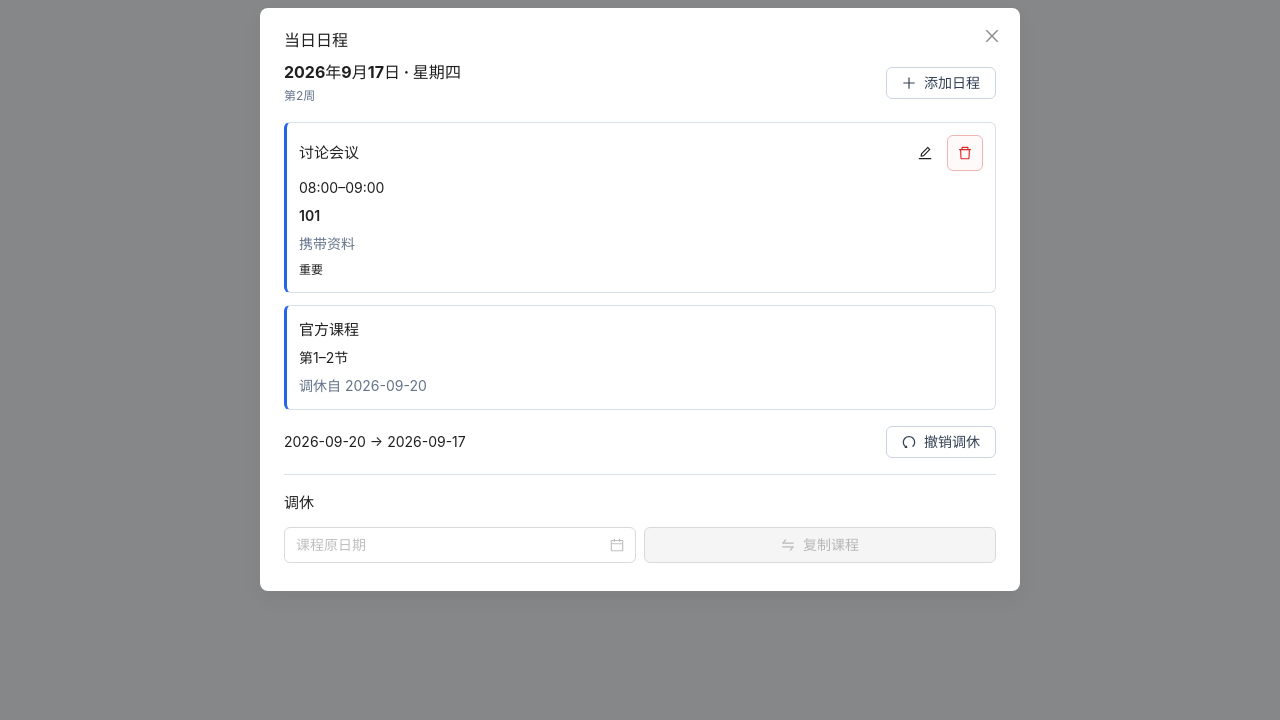
Test: saved timetable agenda management › confirmed deletion removes only the chosen manual event
Click the button named "删除讨论会议": x=965, y=153 [947,135,983,171]
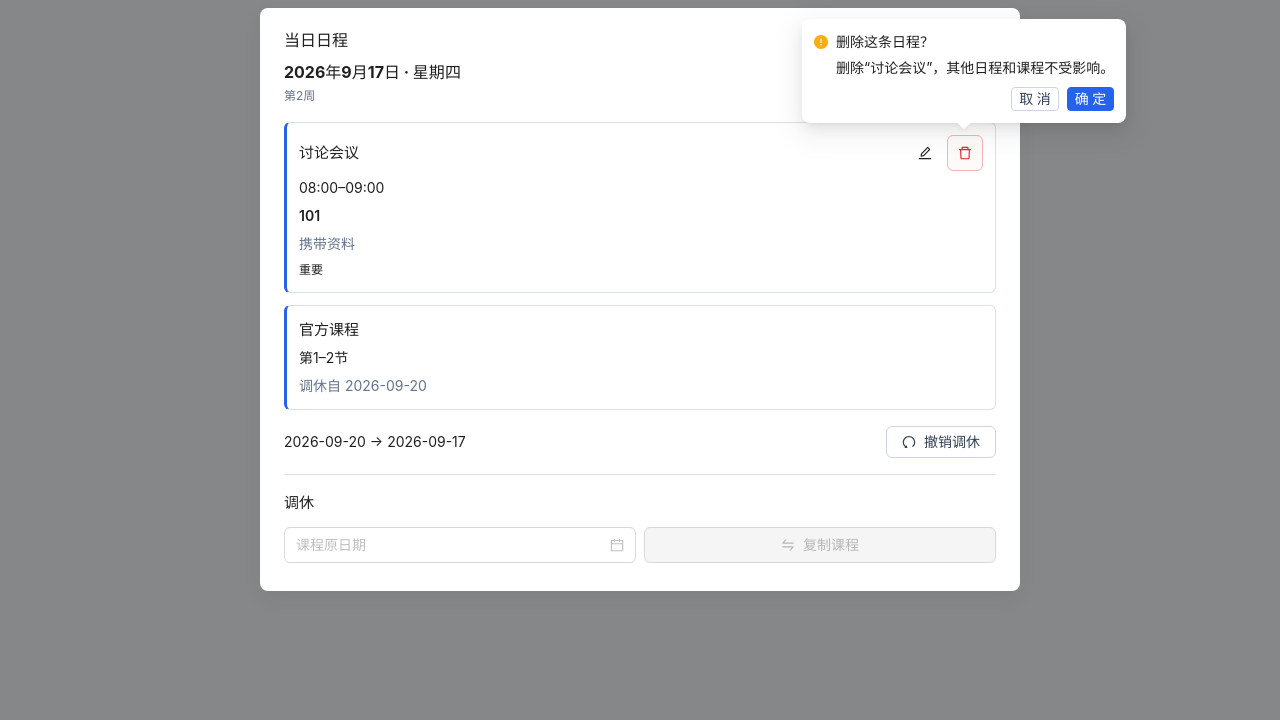
Expected: the button "确 定" is shown
Click the button "确 定": x=1091, y=99 [1067,87,1114,111]
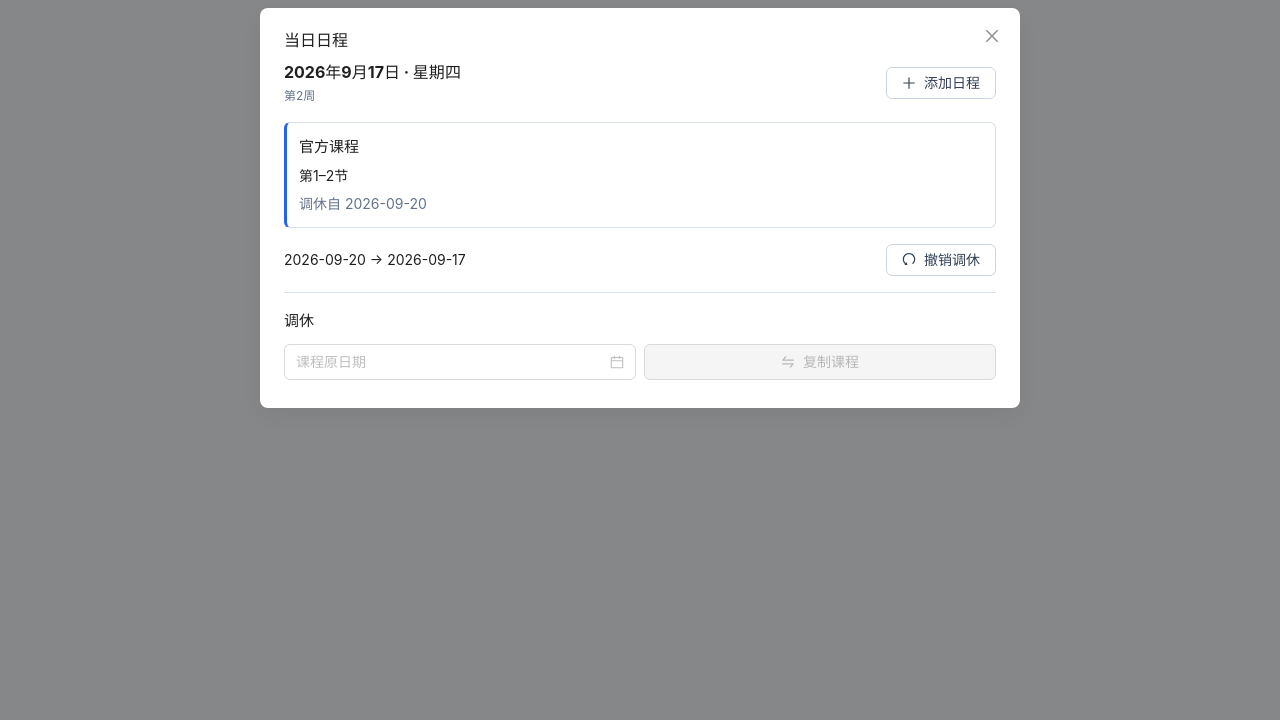
Expected: the element with class "day-agenda-list" shows "官方课程", [299,137,359,156]
Expected: the button named "编辑讨论会议" is gone
